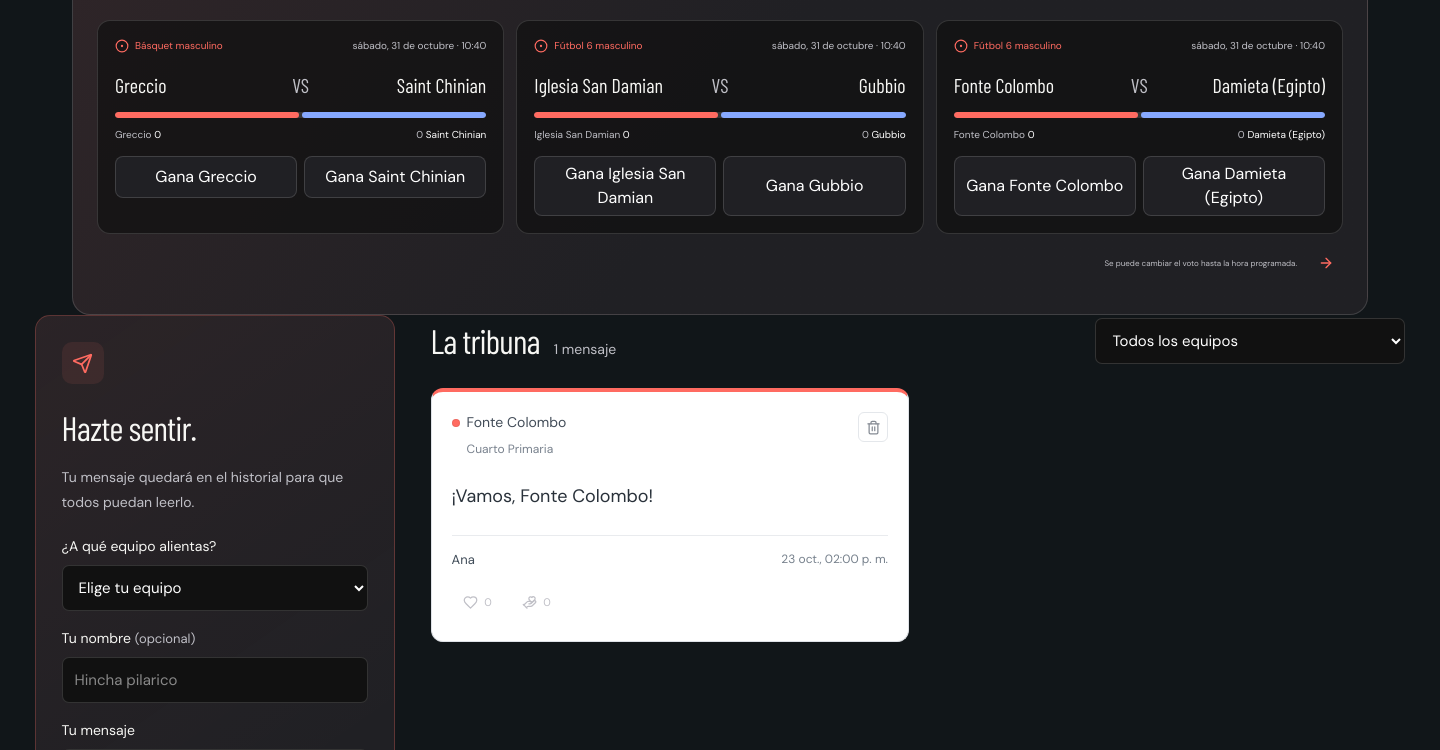
pide una clave oculta, conserva el mensaje con clave incorrecta y borra con la válida
(page scrolled)
Expected: the text "¡Vamos, Fonte Colombo!" is shown, [452, 484, 653, 508]
Click the button named "Eliminar mensaje de Ana".
click(873, 427)  # box [858, 412, 888, 442]
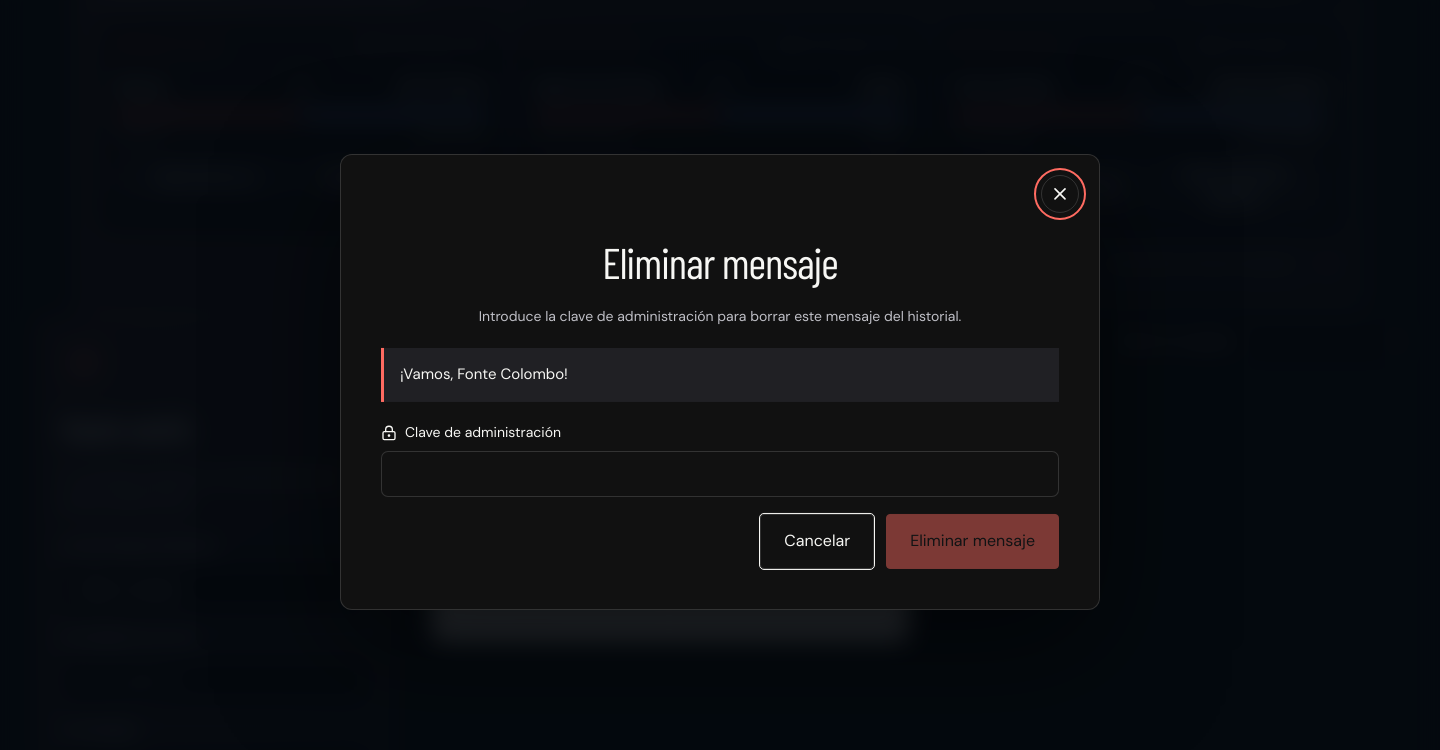
Now the password field labelled "Clave de administración" is empty
Type "wrong" into the password field labelled "Clave de administración".
click(720, 474); type("wrong")  # box [381, 451, 1059, 497]
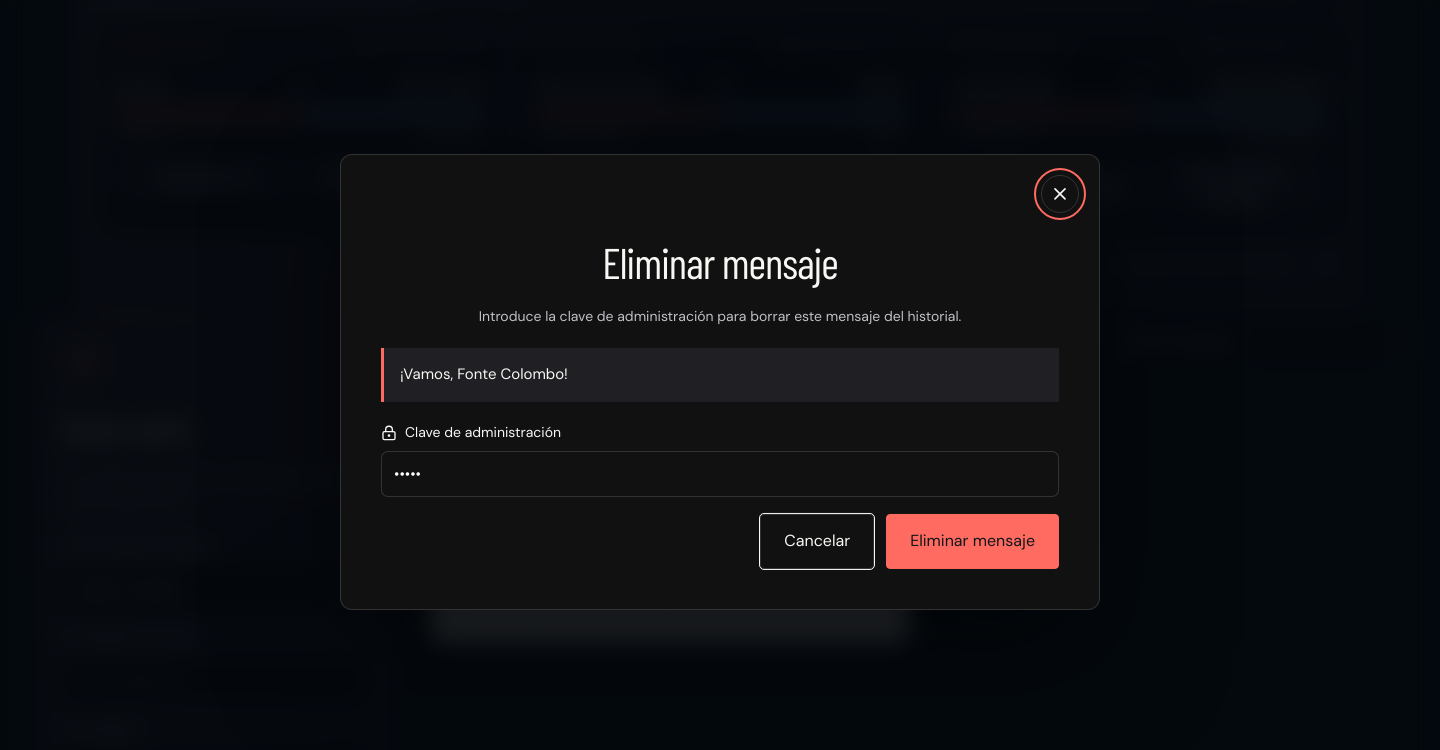
Click the button "Eliminar mensaje".
click(973, 542)  # box [886, 514, 1059, 569]
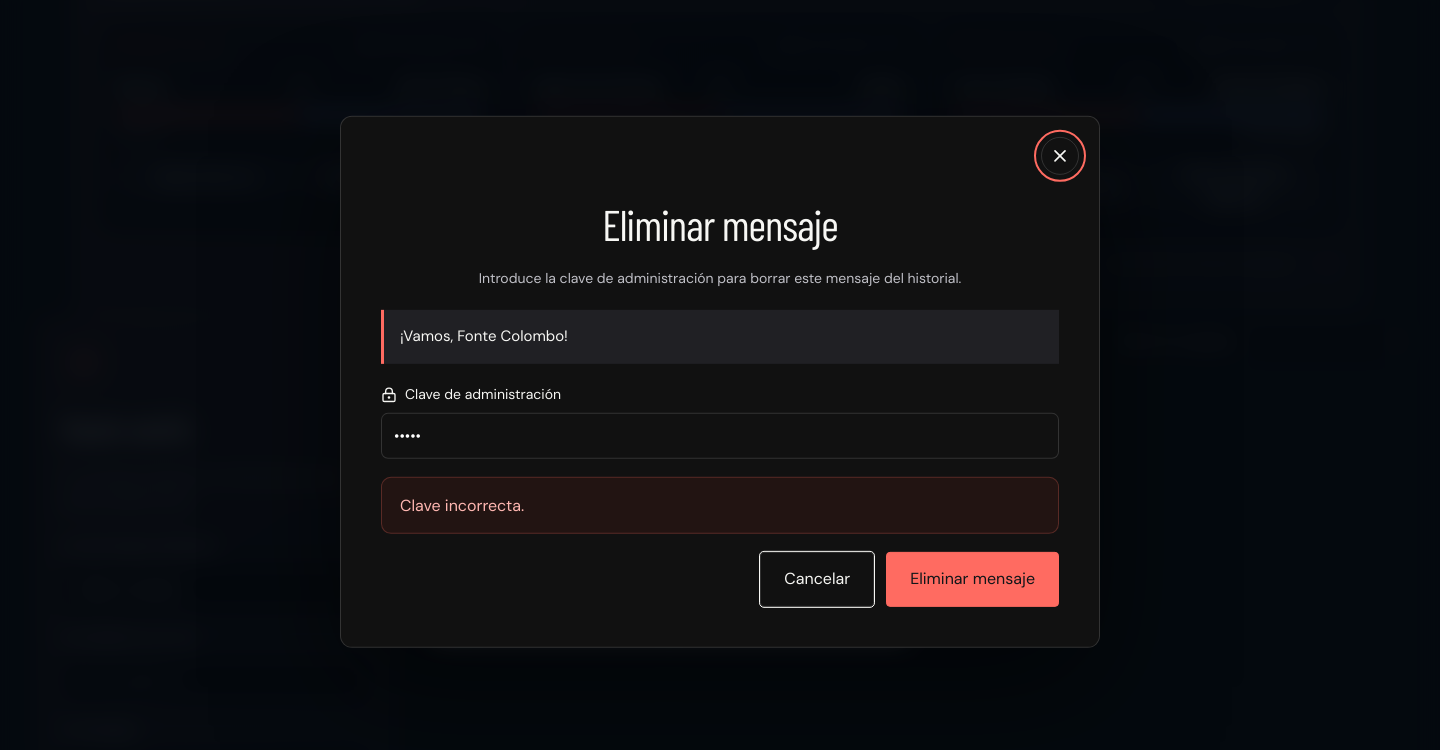
Now the text "Clave incorrecta." is shown, box [381, 477, 1059, 534]
Type "test-admin" into the password field labelled "Clave de administración".
click(720, 436); type("test-admin")  # box [381, 413, 1059, 459]
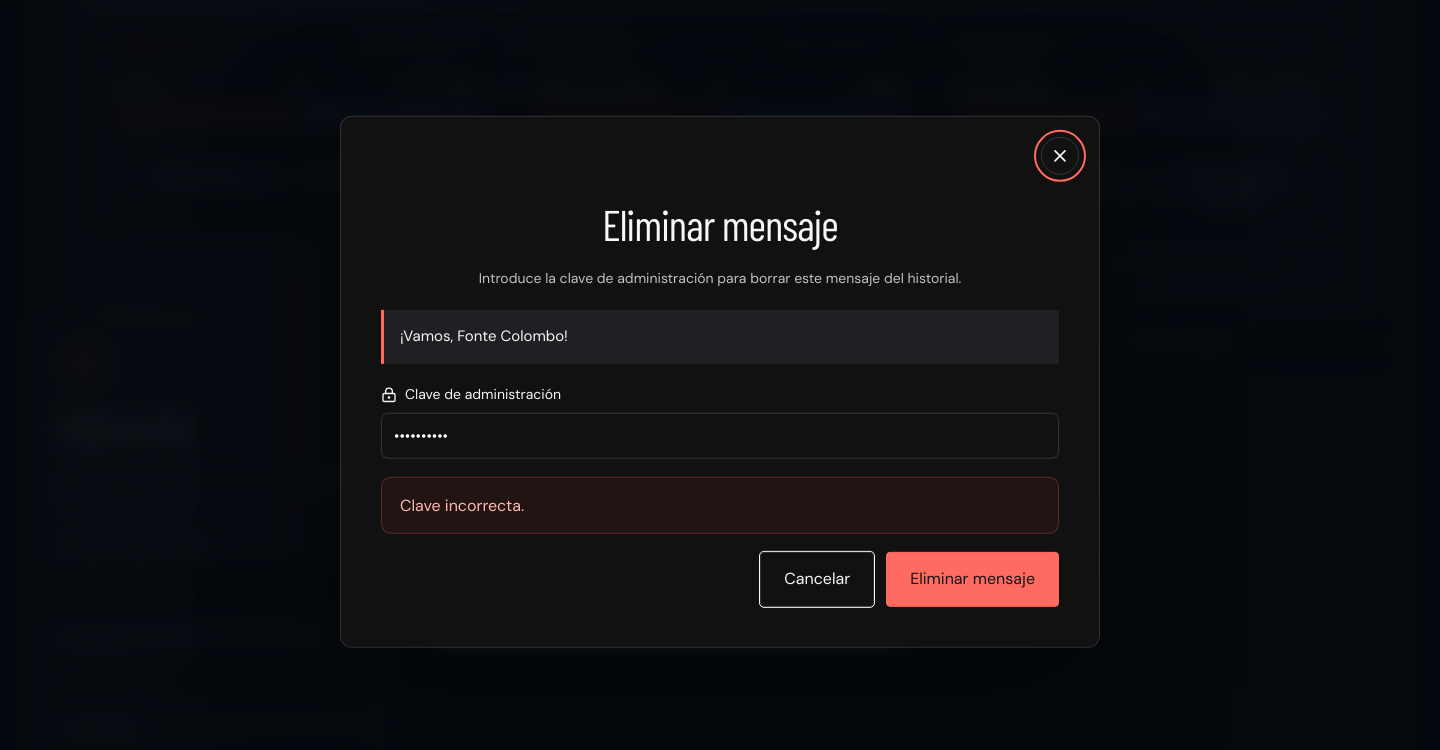
Click the button "Eliminar mensaje".
click(973, 580)  # box [886, 552, 1059, 607]
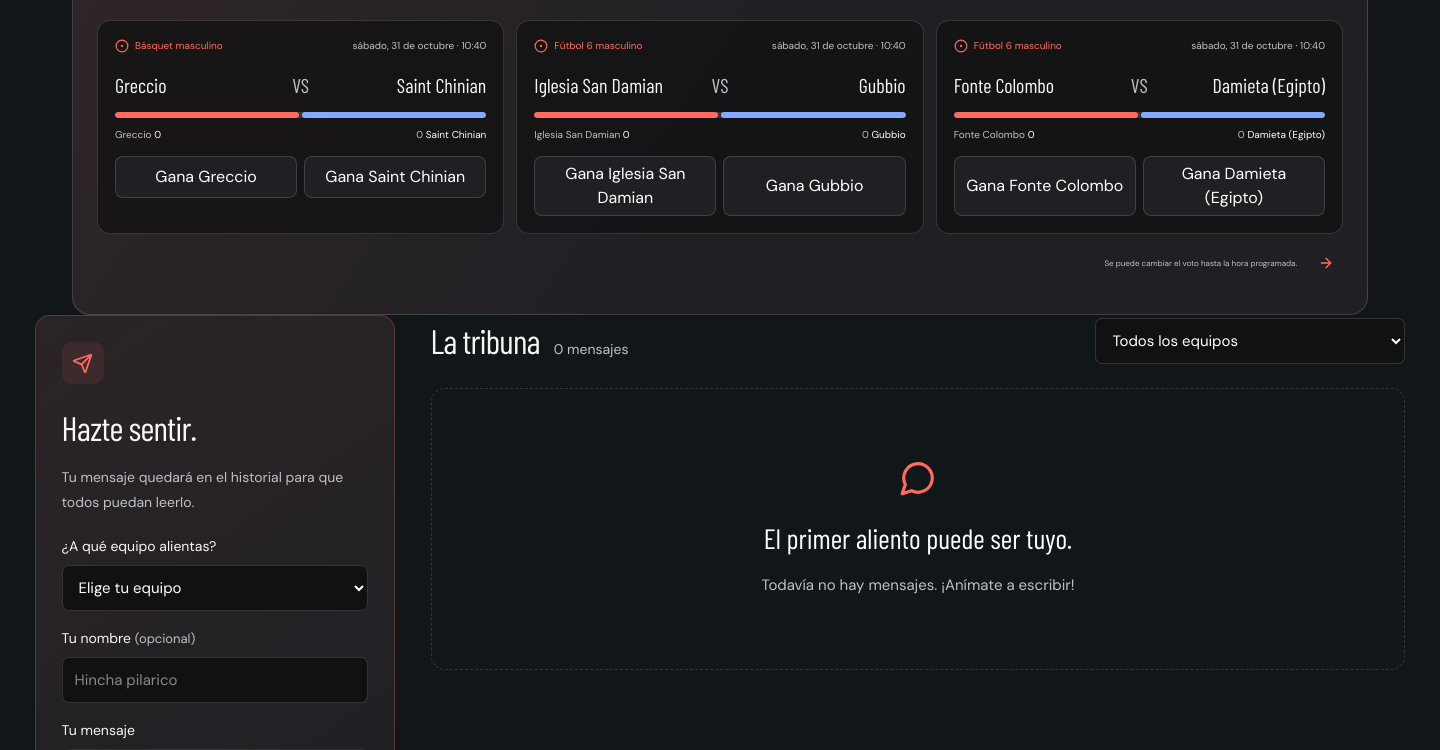
Now the dialog is gone
Now the text "Todavía no hay mensajes. ¡Anímate a escribir!" is shown, box [761, 575, 1075, 595]
